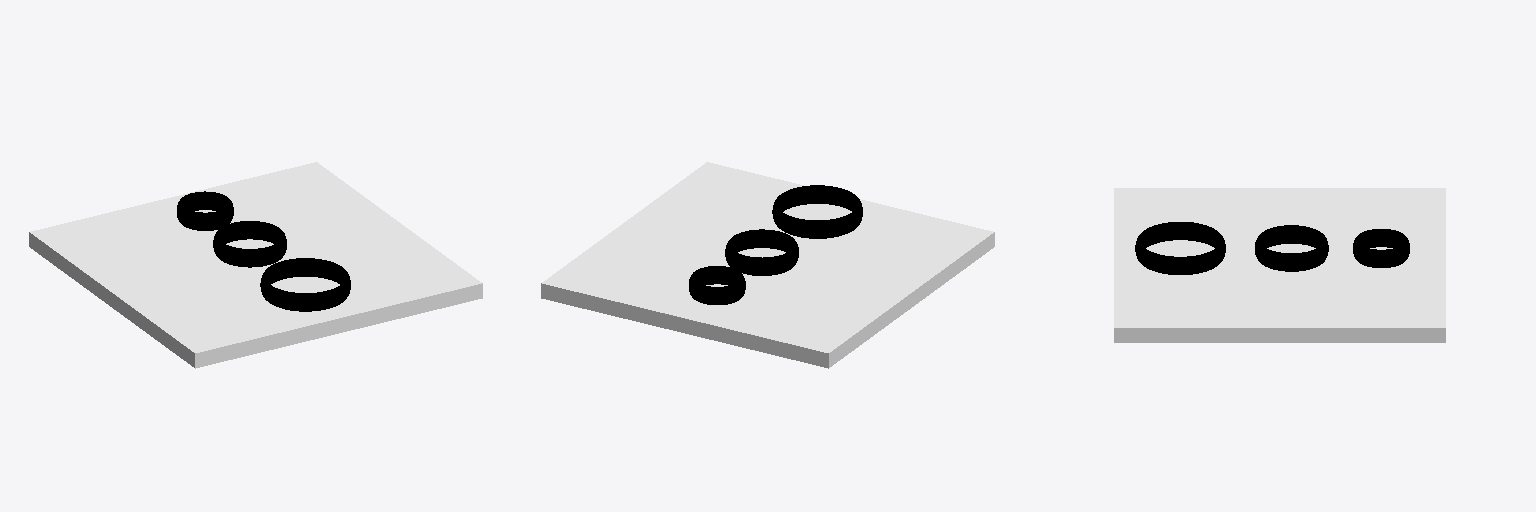
Rendered from wedding-band.obj.
The picture shows the model from 3 angles: view 1: azimuth 30°, elevation 25°; view 2: azimuth 150°, elevation 25°; view 3: azimuth 270°, elevation 25°; orthographic projection.
Visible parts, largest first — view 1: Table_Top, Ring-Large, Ring-Medium, Ring-Small; view 2: Table_Top, Ring-Large, Ring-Medium, Ring-Small; view 3: Table_Top, Ring-Large, Ring-Medium, Ring-Small.
Boxes of the visible parts, box(x1,y1,x2,y2) form: Table_Top: box(29, 162, 482, 368); Ring-Large: box(260, 258, 350, 311); Ring-Medium: box(213, 221, 286, 267); Ring-Small: box(177, 191, 233, 230); Table_Top: box(541, 162, 994, 368); Ring-Large: box(772, 185, 862, 238); Ring-Medium: box(725, 229, 798, 275); Ring-Small: box(689, 266, 745, 304); Table_Top: box(1114, 188, 1445, 342); Ring-Large: box(1135, 222, 1225, 274); Ring-Medium: box(1255, 225, 1328, 271); Ring-Small: box(1353, 229, 1409, 267).
Bounding box in the file's own units: 200 × 22.27 × 200.